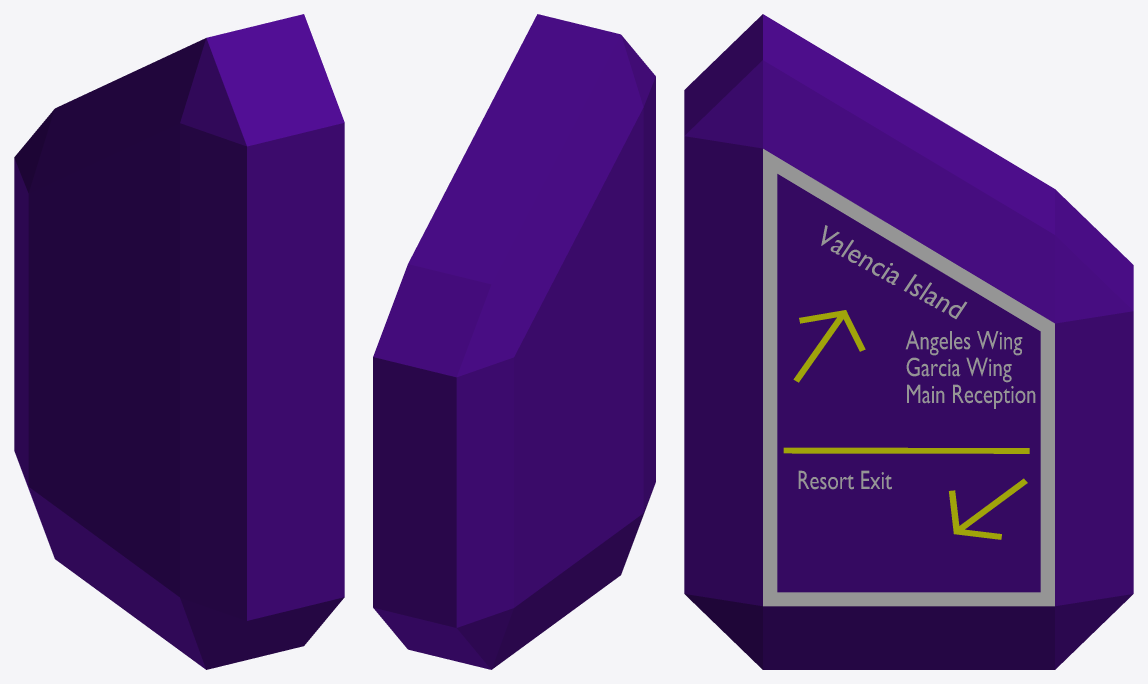
Rendered from valencia_island_sign_6.fbx.
3 views of the same model, side by side, from view 1: azimuth 30°, elevation 25°; view 2: azimuth 150°, elevation 25°; view 3: azimuth 270°, elevation 25° (orthographic). The views are drawn at different scales.
Parts seen in each view (by area): view 1: Cube; view 2: Cube; view 3: Cube, Text.001, Plane.003, Text, Text.002.
Boxes of the visible parts, x1=… form: Cube: x1=14, y1=14, x2=344, y2=669; Cube: x1=373, y1=14, x2=655, y2=669; Cube: x1=684, y1=14, x2=1133, y2=669; Text.001: x1=906, y1=330, x2=1035, y2=408; Plane.003: x1=783, y1=447, x2=1029, y2=453; Text: x1=821, y1=225, x2=967, y2=318; Text.002: x1=798, y1=470, x2=891, y2=489.
Size of the model in its own units: 13.3 by 52.06 by 34.77.
